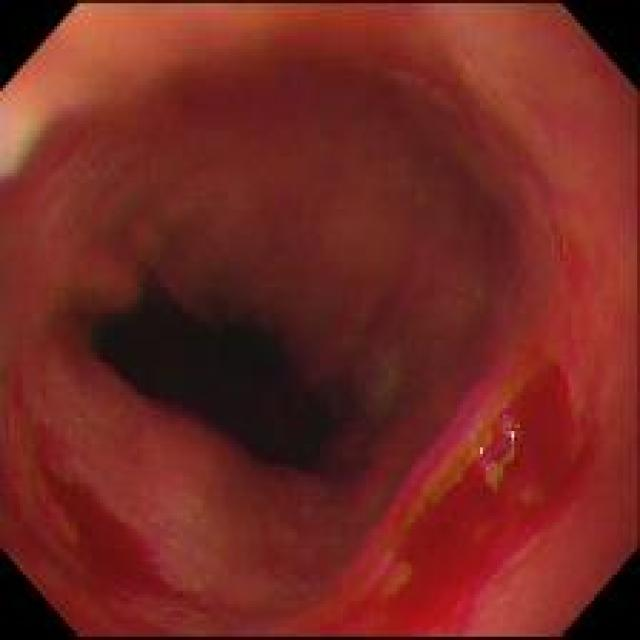blood: (315, 365, 595, 634), (38, 461, 304, 635)
color misalignment: (474, 416, 522, 496), (504, 406, 518, 443), (473, 438, 490, 459), (469, 431, 476, 447)
contrast: (87, 267, 346, 498)
